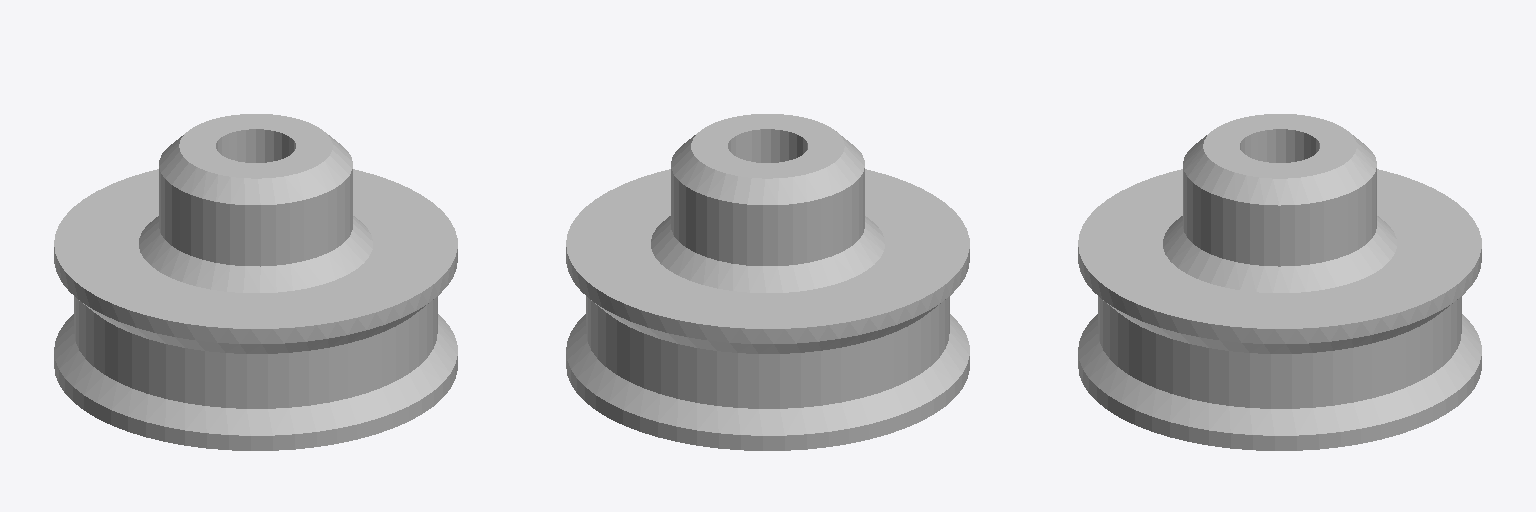
The model's file is Cube 1x1 V5_Z Axis Handle.obj.
3 renders of one model, left to right at view 1: azimuth 30°, elevation 25°; view 2: azimuth 150°, elevation 25°; view 3: azimuth 270°, elevation 25°, orthographic.
Parts seen in each view (by area): view 1: Solid1:6; view 2: Solid1:6; view 3: Solid1:6.
Boxes of the visible parts, x1=… form: Solid1:6: x1=54, y1=114, x2=457, y2=450; Solid1:6: x1=566, y1=114, x2=969, y2=450; Solid1:6: x1=1078, y1=114, x2=1481, y2=450.
Bounding box in the file's own units: 29.99 × 18 × 30.